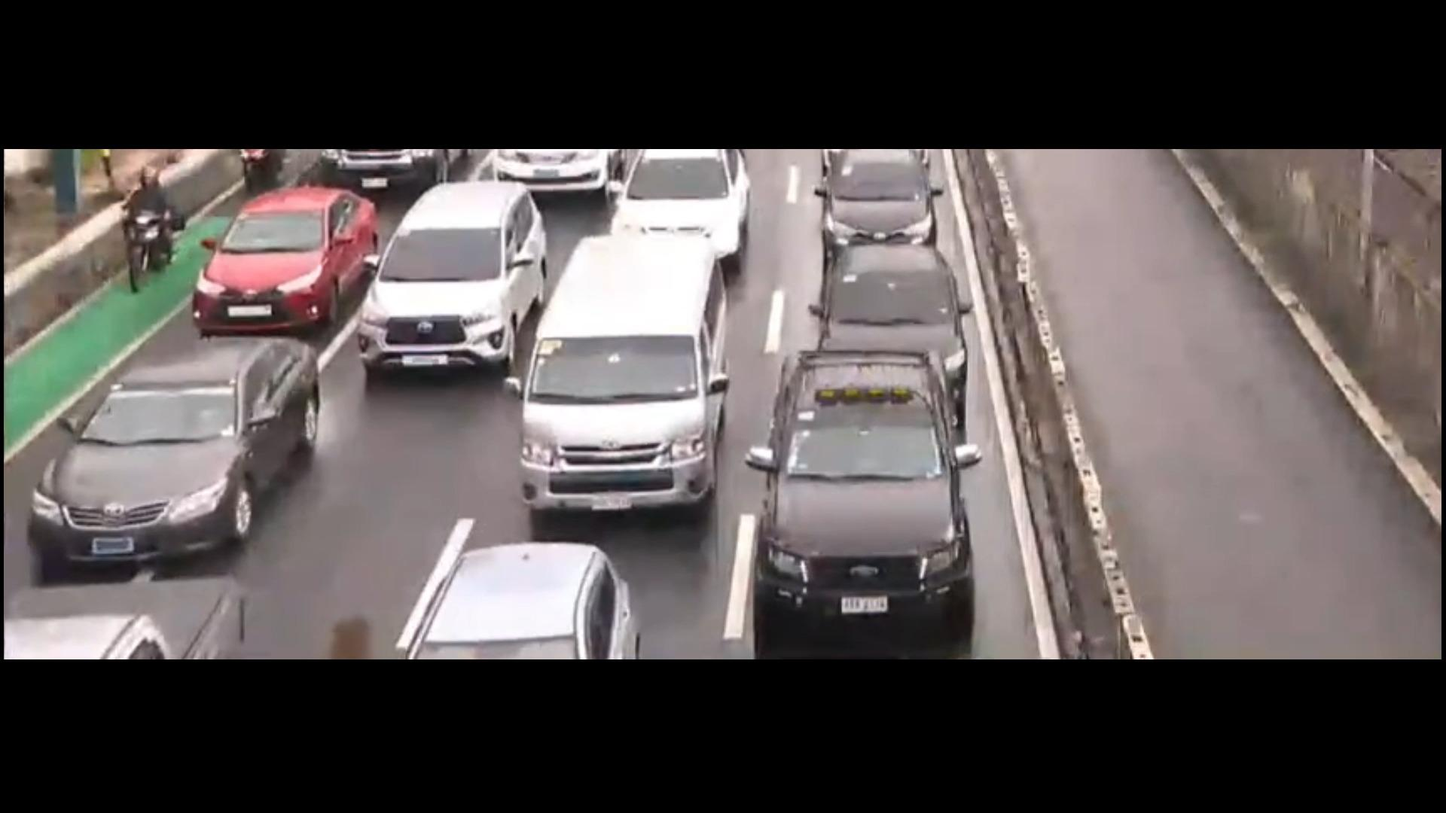Motorcycle: (109, 164, 186, 299)
SUV: (746, 350, 985, 629), (354, 183, 548, 373)
Sedan: (36, 343, 322, 566), (186, 186, 380, 339), (407, 536, 633, 661), (813, 252, 968, 405), (597, 143, 753, 275), (823, 152, 930, 263)
Van: (520, 243, 725, 519)
